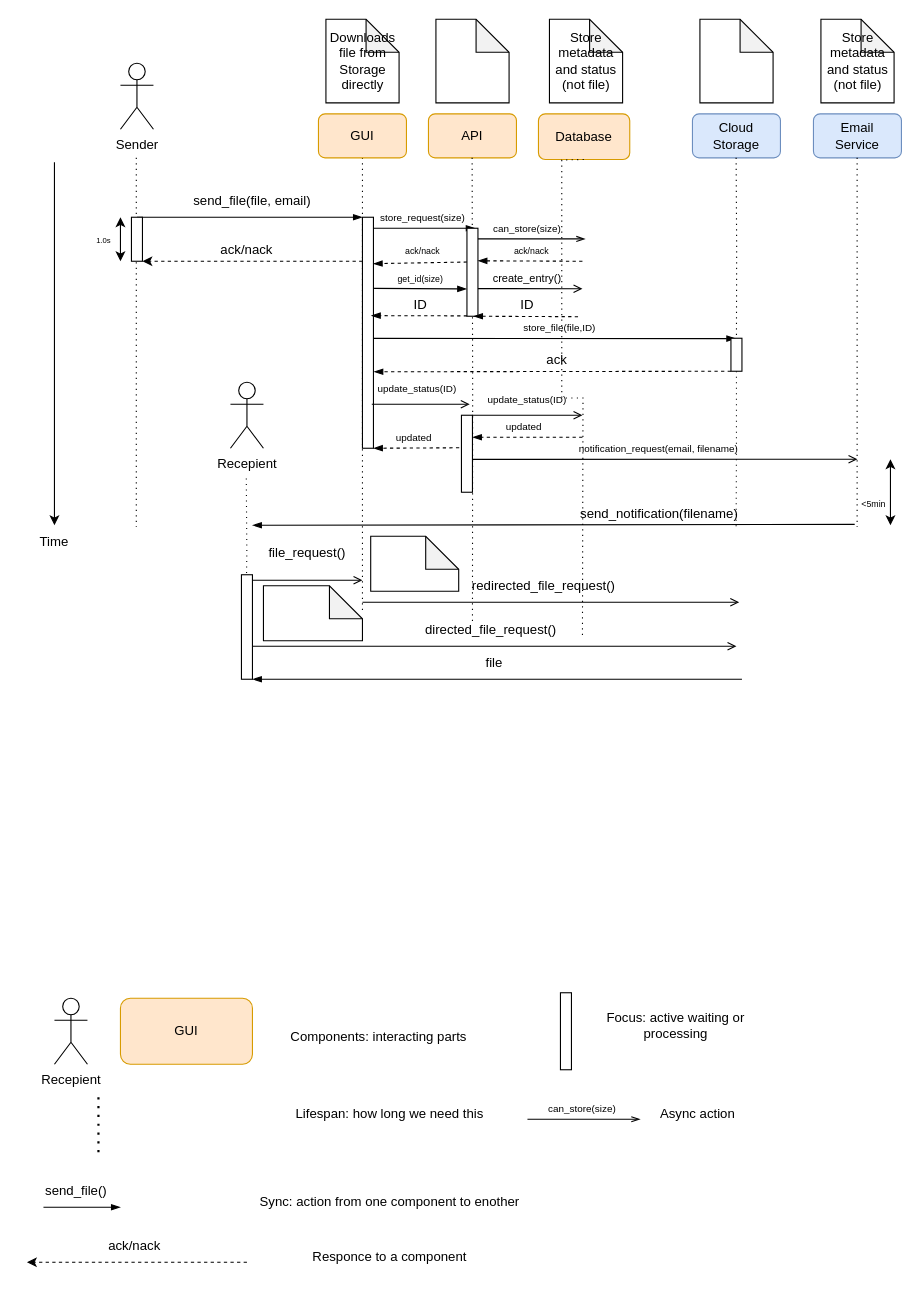
Image size: 921x1293. Some labels were removed from this diagram. The shapes that lost their labels are listed below. From the top down, each one's box as (x1, y1, x2, y2) in pixels, then its label:
(370, 535, 459, 591): All action for redirection
(262, 585, 362, 641): In case when use direct link
